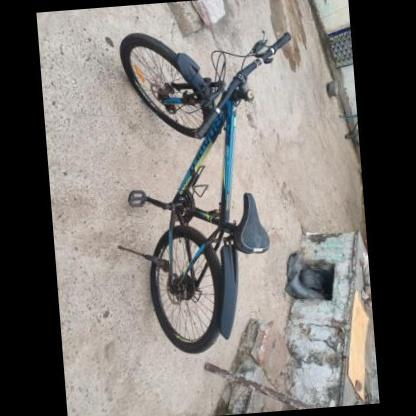Bicycle: (114, 23, 293, 364)
